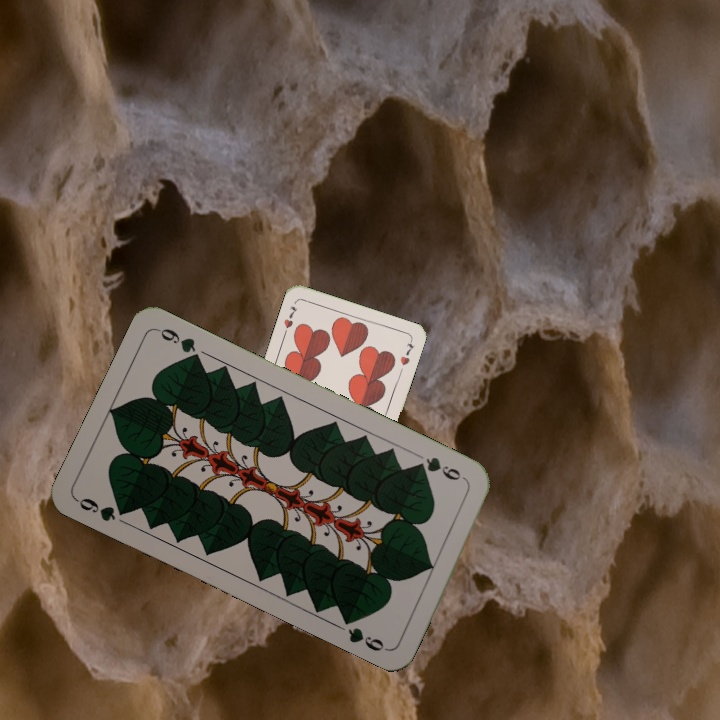G9: (412, 453, 470, 485), (72, 494, 132, 524)
H7: (280, 302, 300, 338)
